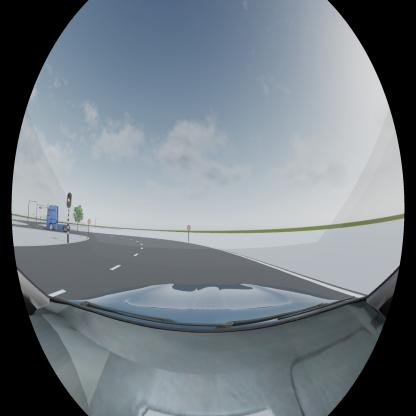Speed Limit 80: (187, 225, 190, 230)
Speed Limit 90: (88, 219, 91, 224)
